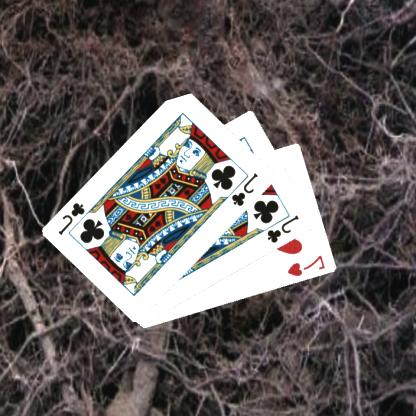7H: (286, 252, 329, 278)
JC: (266, 212, 302, 245), (57, 200, 89, 237), (231, 170, 261, 208)
